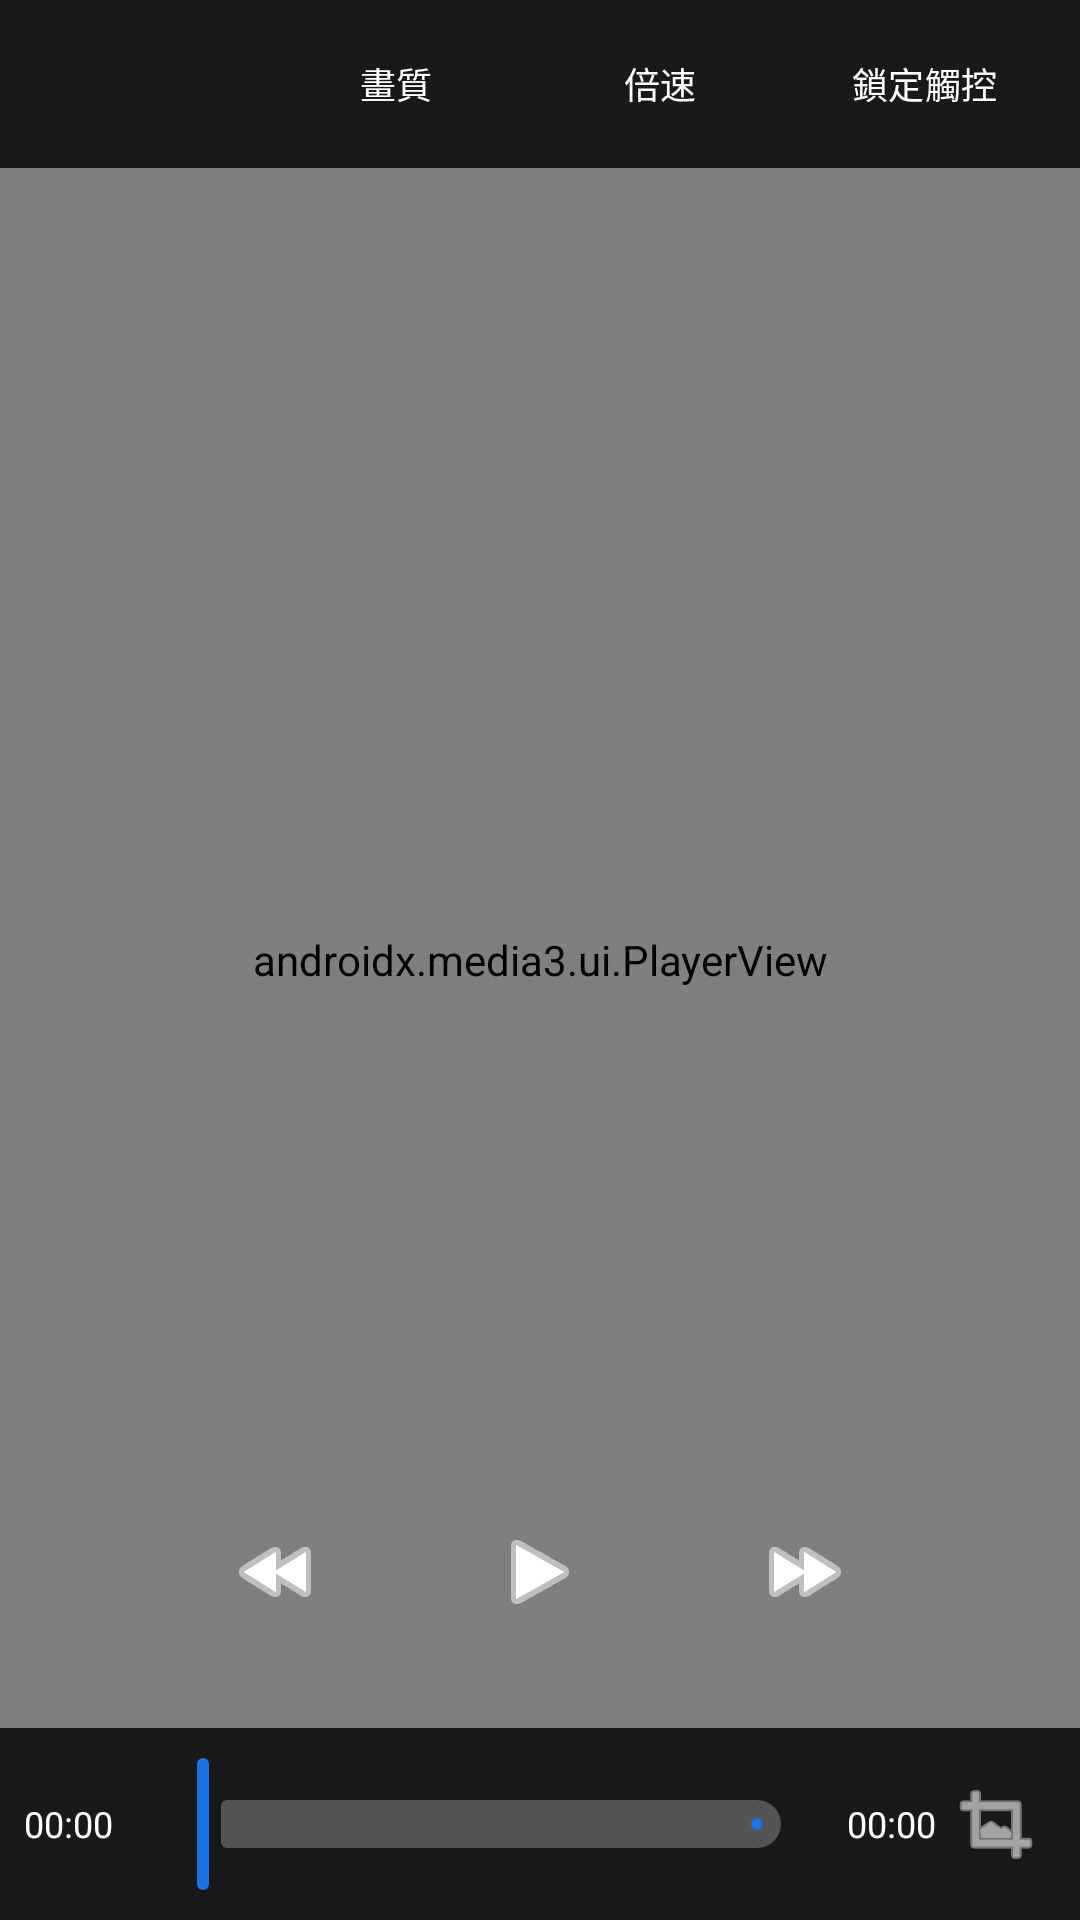

Screen size 1080 x 1920. Icon name, then its center in pixels as (x,y):
+10 秒: (805,1572)
-10 秒: (275,1572)
播放: (540,1572)
